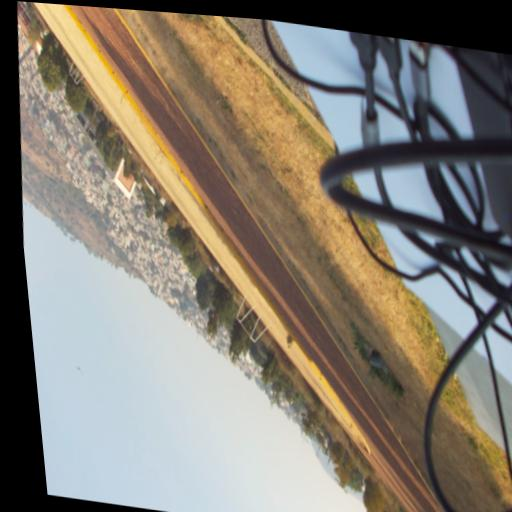drones: (73, 362, 85, 377)
